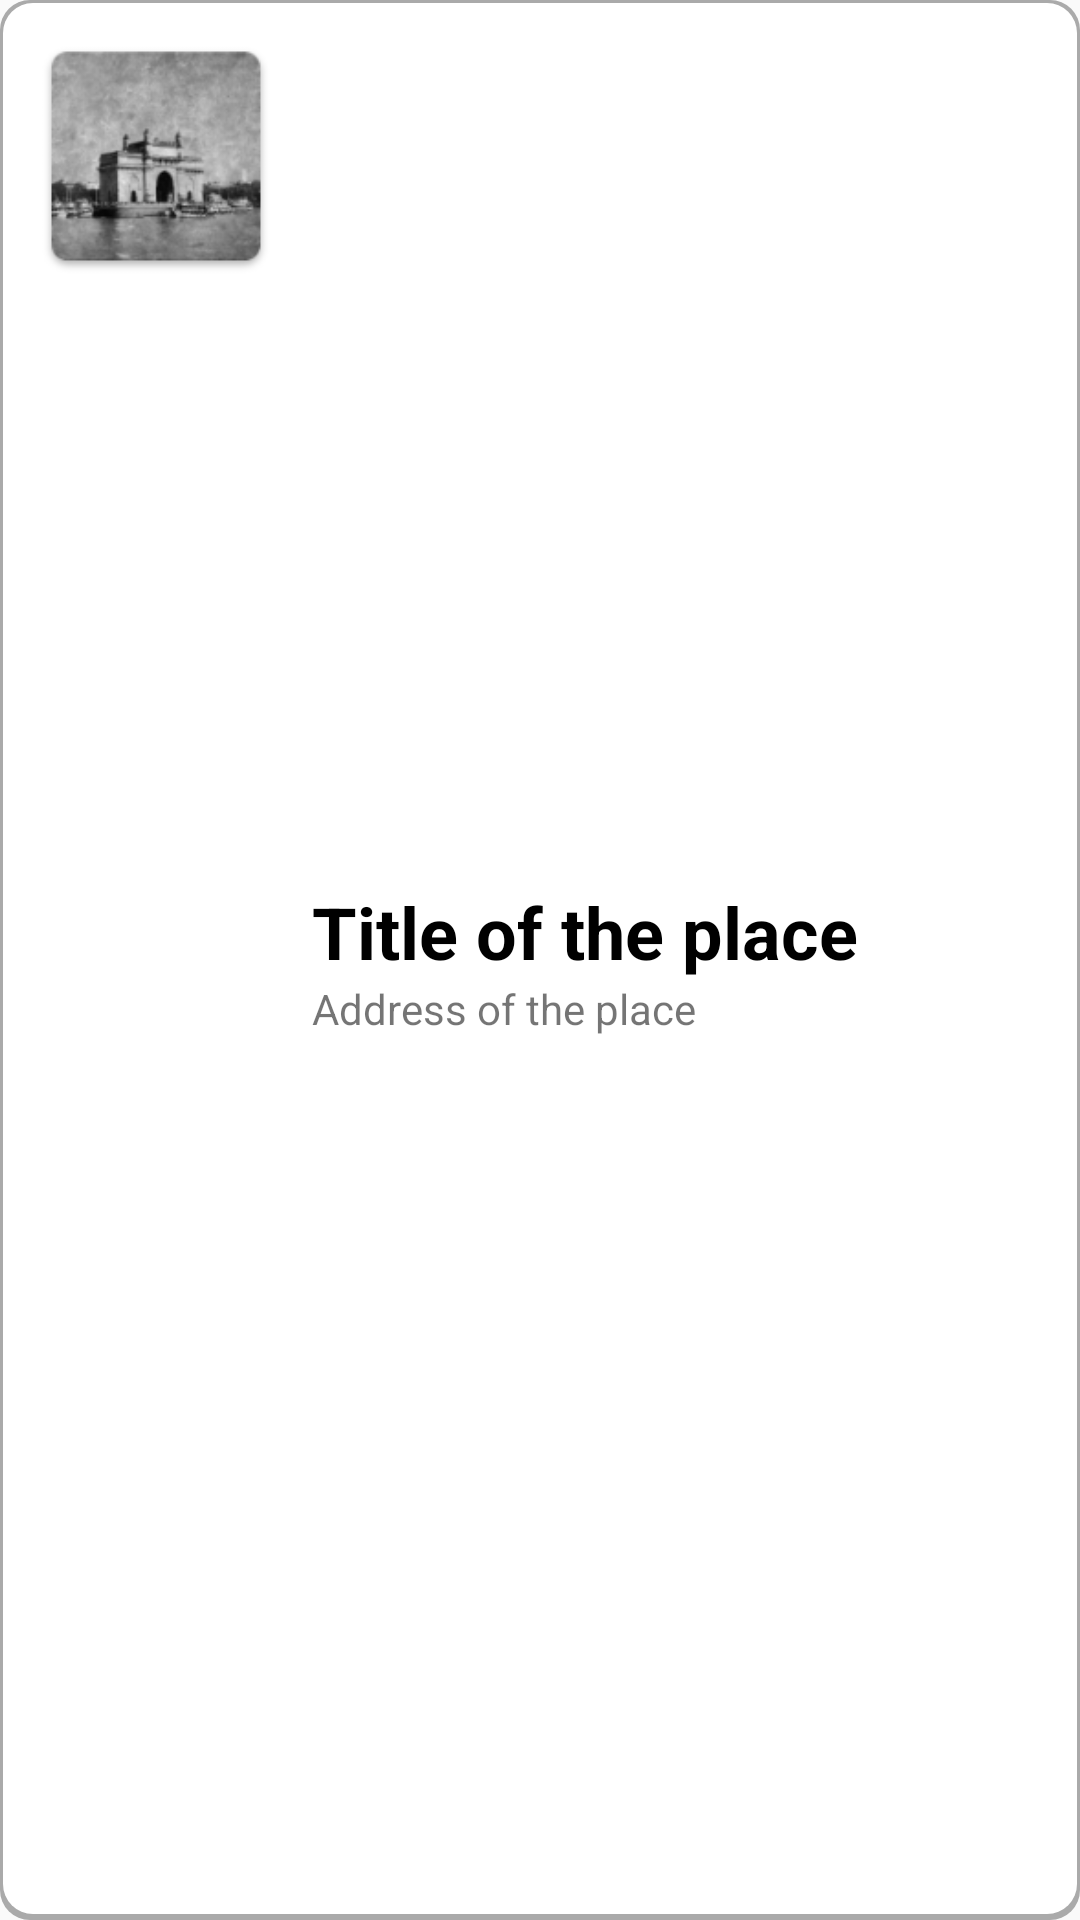

Icons on this 1080px×1920px Android screen, each with its box as (left=x1, top=y1, right=x2, bottom=y2):
gateway: (left=50, top=51, right=262, bottom=266)
